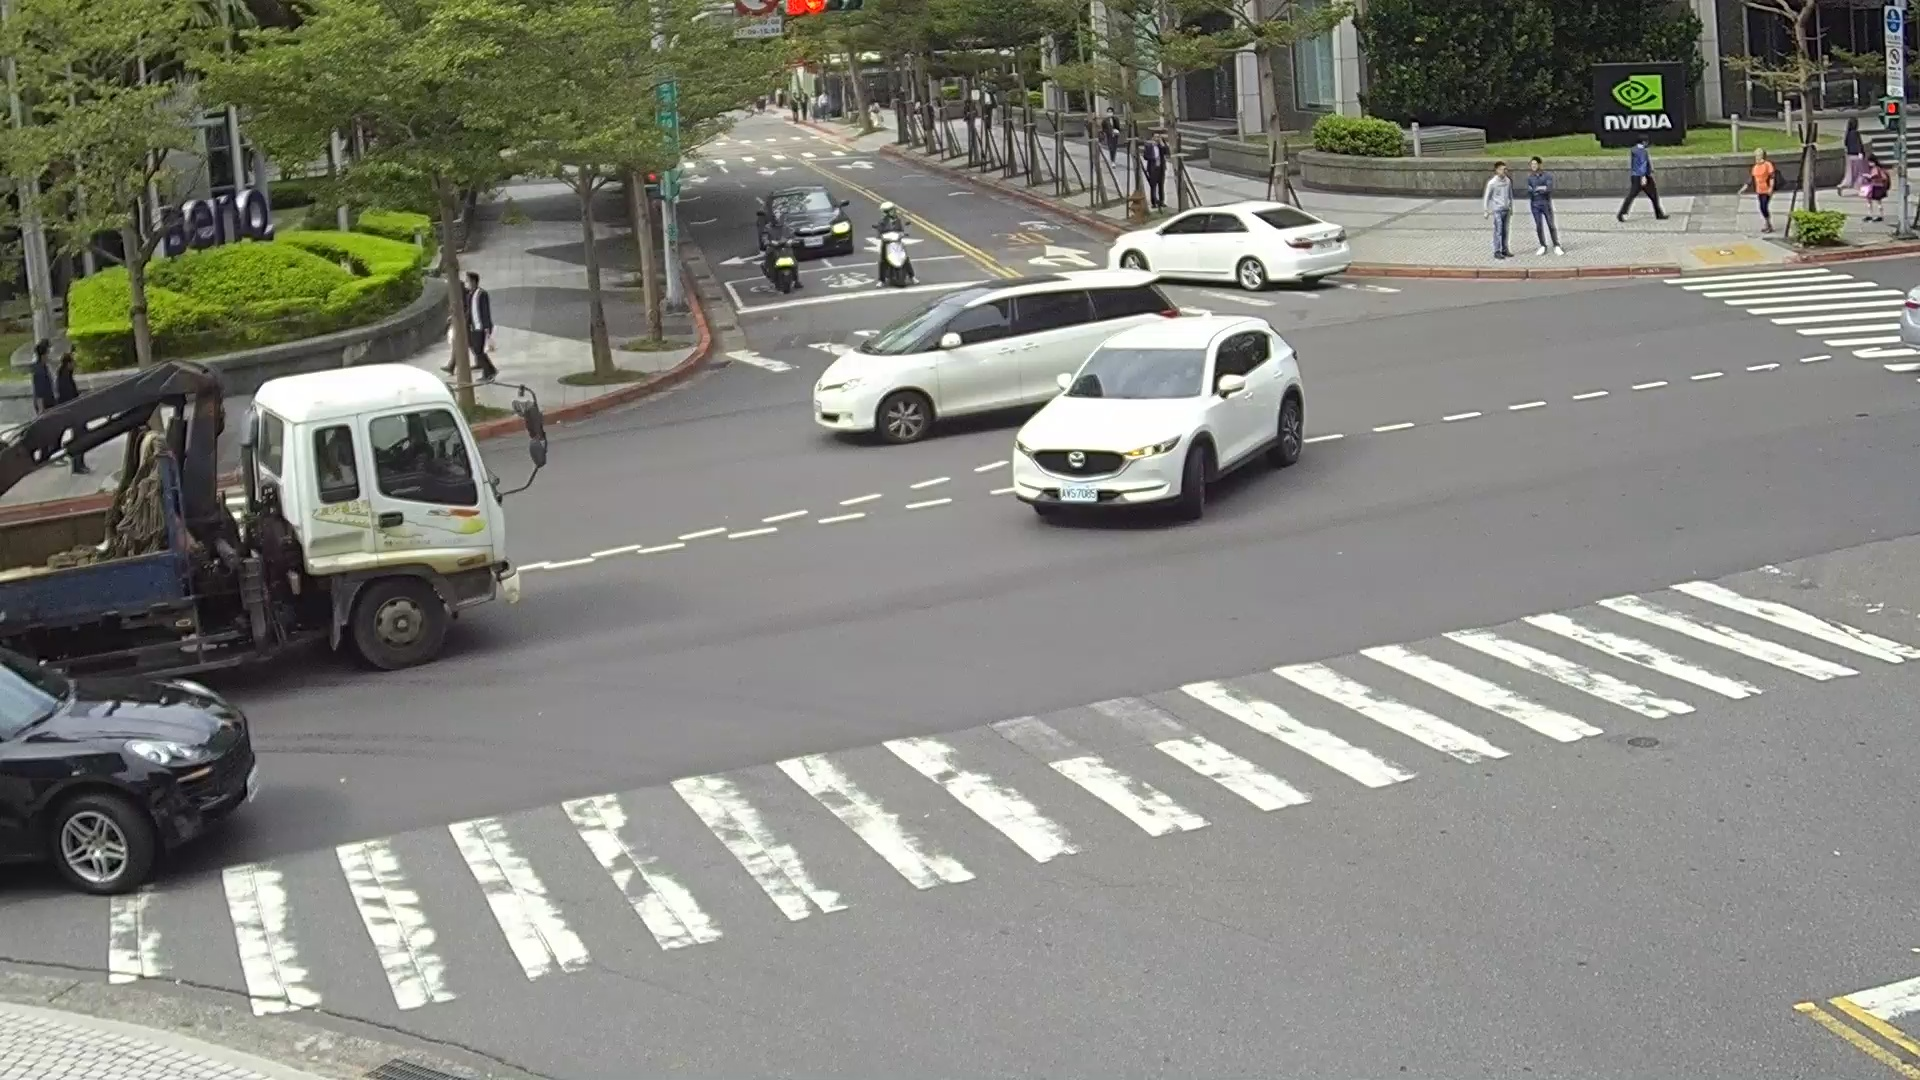bike: (874, 232, 918, 287), (761, 243, 802, 293)
pedestrian: (1613, 136, 1667, 222), (1522, 156, 1563, 254), (461, 273, 498, 378), (1484, 159, 1515, 259), (28, 337, 60, 413), (1749, 149, 1777, 232), (871, 202, 909, 266), (1856, 163, 1891, 222), (1140, 138, 1165, 213), (763, 207, 795, 258), (53, 344, 78, 406)
vehicle: (1, 357, 543, 689), (1, 618, 262, 897), (808, 266, 1190, 442), (1016, 312, 1297, 527), (1105, 198, 1354, 289), (754, 184, 855, 264), (1897, 273, 1920, 362)
